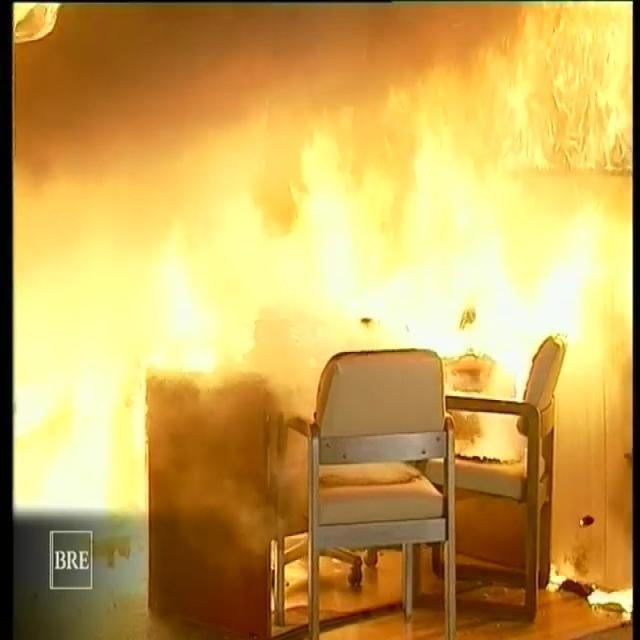Fire: (10, 0, 638, 435)
